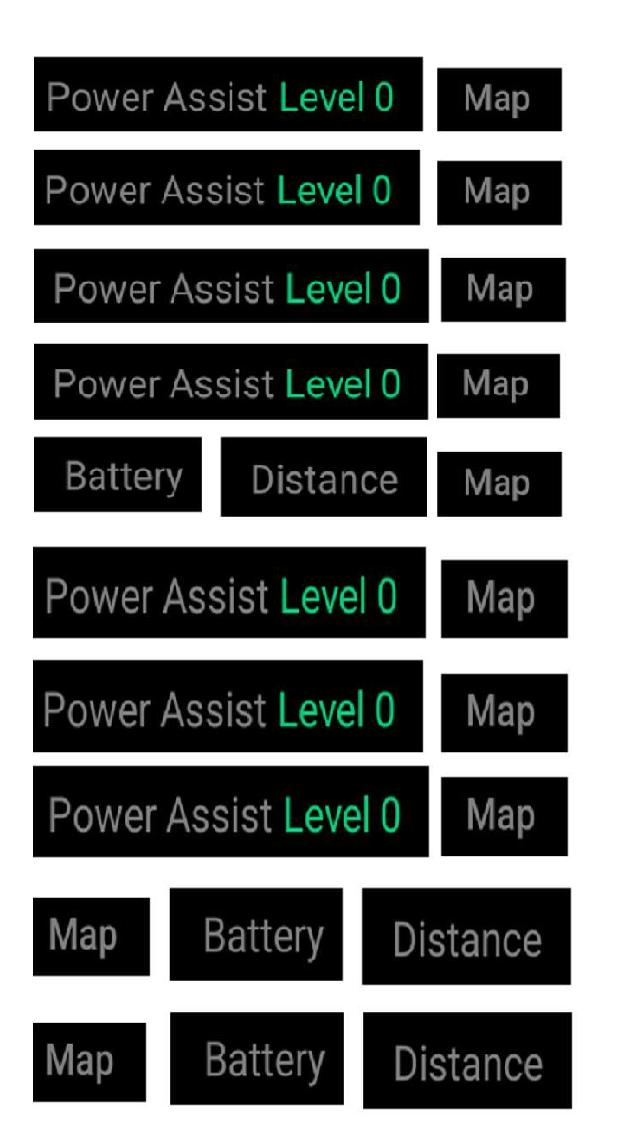Text: (42, 572, 401, 622), (46, 792, 405, 839), (44, 267, 404, 312), (42, 689, 398, 733), (44, 78, 405, 119), (47, 366, 411, 402), (44, 172, 398, 208), (390, 916, 548, 967), (390, 1038, 548, 1086), (198, 912, 330, 964), (245, 459, 404, 502), (200, 1037, 329, 1088), (61, 455, 190, 501), (458, 576, 539, 623), (460, 691, 539, 738), (44, 915, 124, 961), (38, 1041, 120, 1085), (458, 363, 537, 405), (464, 796, 538, 840), (457, 172, 532, 214), (456, 80, 534, 120), (462, 271, 536, 311), (457, 466, 533, 504)
